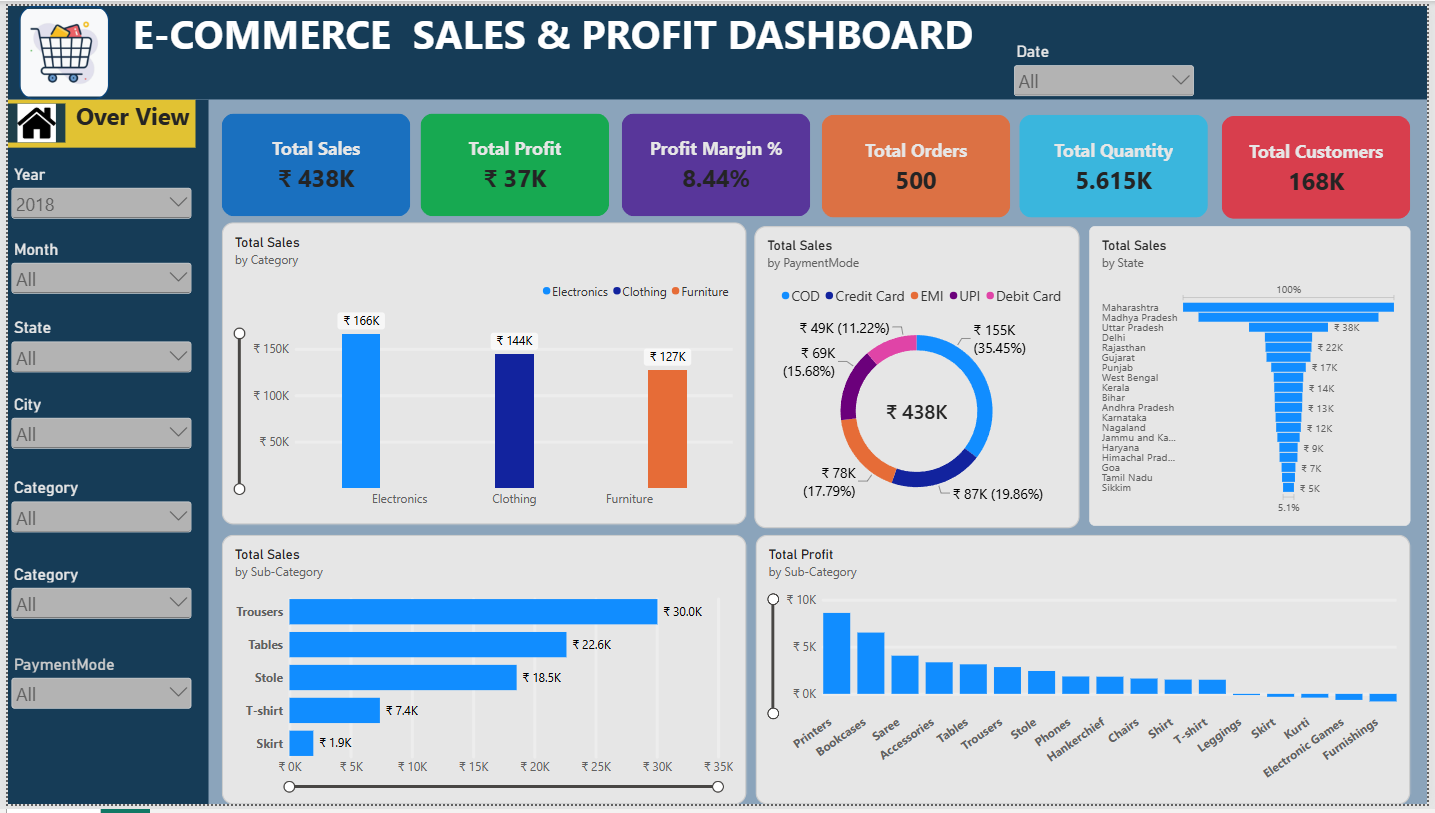

The dashboard page shown, as its layout file describes it:
{"tool":"powerbi","page":{"name":"Page 1","canvas":[1920,1080],"ordinal":0},"visuals":[{"type":"textbox","box":[0,0,1920.1,126.7],"z":0},{"type":"textbox","box":[0,126.7,271.4,953.7],"z":1000},{"type":"cardVisual","fields":{"Data":["Sales Details.Total Sales"]},"box":[289.5,144.8,255.2,139.3],"z":2000},{"type":"cardVisual","fields":{"Data":["Sales Details.Total Profit"]},"box":[557.4,144.8,255.2,139.3],"z":3000},{"type":"cardVisual","fields":{"Data":["Sales Details.Profit Margin %"]},"box":[830.6,144.8,255.2,139.3],"z":4000},{"type":"cardVisual","fields":{"Data":["Sales Details.Total Orders"]},"box":[1100.3,146.6,255.2,139.3],"z":5000},{"type":"cardVisual","fields":{"Data":["Sales Details.Total Quantity"]},"box":[1368.1,146.6,255.2,139.3],"z":6000},{"type":"cardVisual","fields":{"Data":["Sum(Orders.Total Customers)"]},"box":[1641.4,148.4,255.2,139.3],"z":7000},{"type":"image","box":[14.5,0,121.2,126.7],"z":8000},{"type":"slicer","fields":{"Values":["DateTable.Date"]},"box":[1355.4,48.9,253.4,77.8],"z":9000},{"type":"slicer","fields":{"Values":["DateTable.Year"]},"box":[0,215.3,253.4,77.8],"z":10000},{"type":"slicer","fields":{"Values":["DateTable.Month"]},"box":[0,316.7,253.4,77.8],"z":11000},{"type":"slicer","fields":{"Values":["Orders.State"]},"box":[0,423.5,253.4,77.8],"z":12000},{"type":"slicer","fields":{"Values":["Sales Details.Category"]},"box":[0,638.8,253.4,77.8],"z":13000},{"type":"slicer","fields":{"Values":["Orders.City"]},"box":[0,526.6,253.4,77.8],"z":14000},{"type":"slicer","fields":{"Values":["Sales Details.Category"]},"box":[0,756.4,253.4,77.8],"z":15000},{"type":"slicer","fields":{"Values":["Sales Details.PaymentMode"]},"box":[0,877.7,253.4,88.7],"z":16000},{"type":"textbox","box":[0,126.7,253.4,65.1],"z":17000},{"type":"image","box":[0,132.1,77.8,52.5],"z":18000},{"type":"lineClusteredColumnComboChart","title":"Total Sales ","fields":{"Category":["Sales Details.Category"],"Series":["Sales Details.Category"],"Y":["Sales Details.Total Sales"]},"box":[289.5,293.2,709.4,409],"z":19000},{"type":"donutChart","fields":{"Category":["Sales Details.PaymentMode"],"Y":["Sales Details.Total Sales"]},"box":[1009.8,296.8,439.7,409],"z":20000},{"type":"funnel","fields":{"Category":["Orders.State"],"Y":["Sales Details.Total Sales"]},"box":[1462.2,296.8,434.3,405.4],"z":21000},{"type":"barChart","fields":{"Category":["Sales Details.Sub-Category"],"Y":["Sales Details.Total Sales"]},"box":[289.8,715.4,709.9,365],"z":22000},{"type":"lineStackedColumnComboChart","fields":{"Category":["Sales Details.Sub-Category"],"Y":["Sales Details.Total Profit"]},"box":[1010.7,715.4,885.9,365],"z":23000}]}

Visuals, with their boxes in screenshot pixels (x1, y1, x2, y2), scaled from the page's 1920x1080 canvas onto the 1435x813 screenshot:
textbox: (x1=0, y1=0, x2=1434, y2=95)
textbox: (x1=0, y1=95, x2=203, y2=812)
cardVisual - Sales Details.Total Sales: (x1=216, y1=109, x2=407, y2=214)
cardVisual - Sales Details.Total Profit: (x1=417, y1=109, x2=607, y2=214)
cardVisual - Sales Details.Profit Margin %: (x1=621, y1=109, x2=812, y2=214)
cardVisual - Sales Details.Total Orders: (x1=822, y1=110, x2=1013, y2=215)
cardVisual - Sales Details.Total Quantity: (x1=1023, y1=110, x2=1213, y2=215)
cardVisual - Sum(Orders.Total Customers): (x1=1227, y1=112, x2=1418, y2=217)
image: (x1=11, y1=0, x2=101, y2=95)
slicer - DateTable.Date: (x1=1013, y1=37, x2=1202, y2=95)
slicer - DateTable.Year: (x1=0, y1=162, x2=189, y2=221)
slicer - DateTable.Month: (x1=0, y1=238, x2=189, y2=297)
slicer - Orders.State: (x1=0, y1=319, x2=189, y2=377)
slicer - Sales Details.Category: (x1=0, y1=481, x2=189, y2=539)
slicer - Orders.City: (x1=0, y1=396, x2=189, y2=455)
slicer - Sales Details.Category: (x1=0, y1=569, x2=189, y2=628)
slicer - Sales Details.PaymentMode: (x1=0, y1=661, x2=189, y2=727)
textbox: (x1=0, y1=95, x2=189, y2=144)
image: (x1=0, y1=99, x2=58, y2=139)
"Total Sales " lineClusteredColumnComboChart: (x1=216, y1=221, x2=747, y2=529)
donutChart - Sales Details.PaymentMode x Sales Details.Total Sales: (x1=755, y1=223, x2=1083, y2=531)
funnel - Orders.State x Sales Details.Total Sales: (x1=1093, y1=223, x2=1417, y2=529)
barChart - Sales Details.Sub-Category x Sales Details.Total Sales: (x1=217, y1=539, x2=747, y2=812)
lineStackedColumnComboChart - Sales Details.Sub-Category x Sales Details.Total Profit: (x1=755, y1=539, x2=1418, y2=812)
